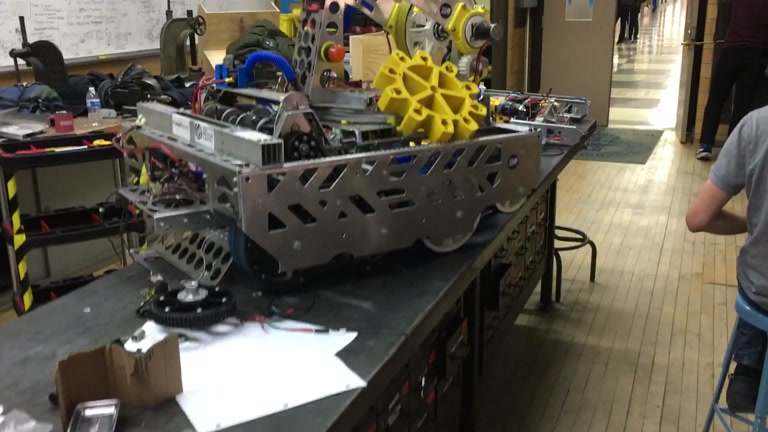gear: (370, 48, 487, 143)
